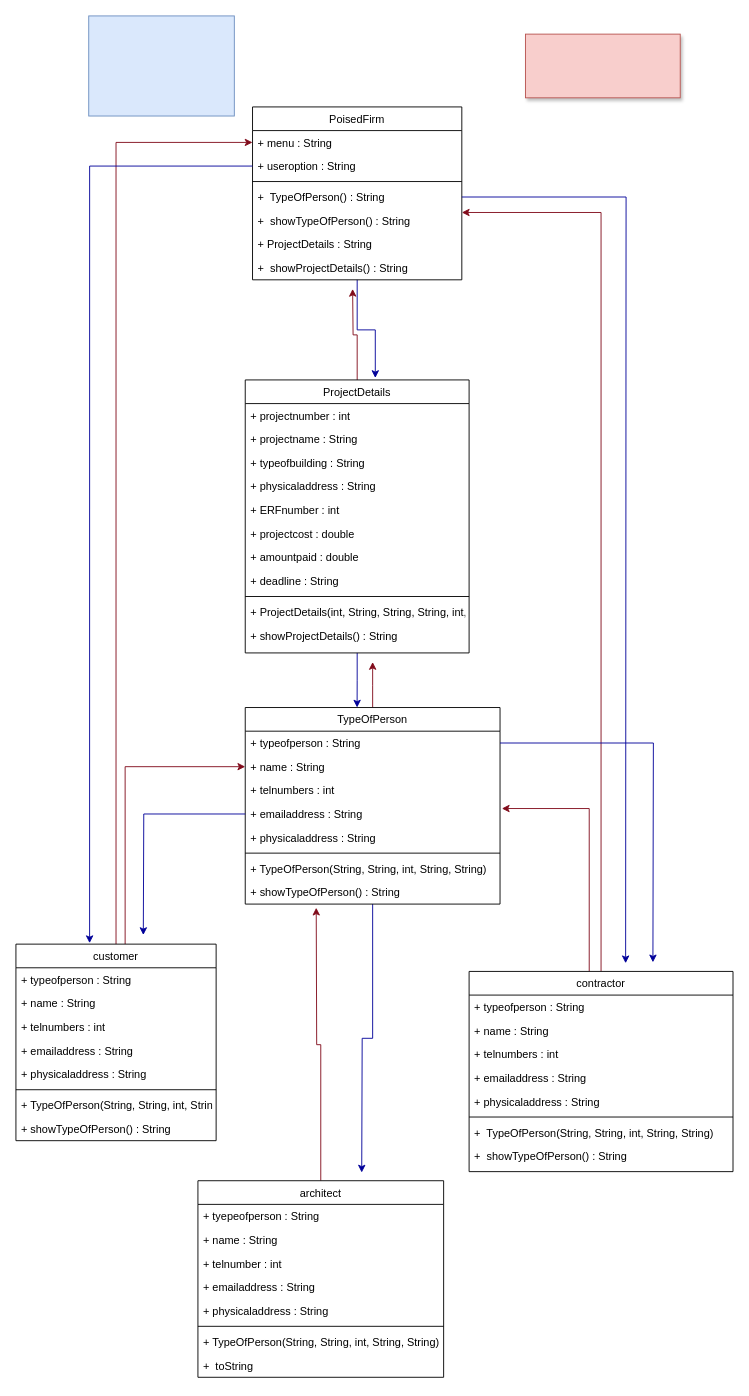
The diagram is 749 pixels wide and 1396 high, and some of its shapes have lost their labels. Each missing label, with the centre of its shape:
The ProjectDetails and TypeOfPerson Classes are called in PoisedFirm(main class): point 161,65
This project start in PoisedFirm(main): point 603,67
